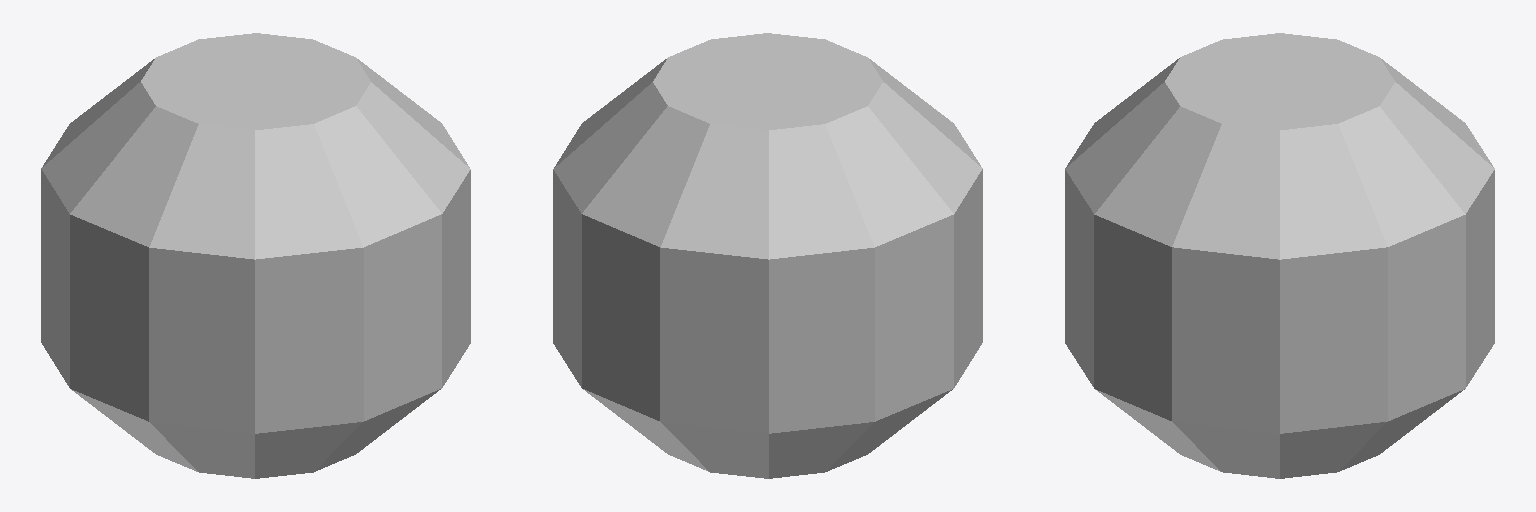
Rendered from Decimal.obj.
3 views of the same model, side by side, from view 1: azimuth 30°, elevation 25°; view 2: azimuth 150°, elevation 25°; view 3: azimuth 270°, elevation 25° (orthographic).
Visible parts, largest first — view 1: Text_Text.004; view 2: Text_Text.004; view 3: Text_Text.004.
Boxes of the visible parts, box(x1,y1,x2,y2) form: Text_Text.004: box(41, 33, 470, 478); Text_Text.004: box(553, 33, 982, 478); Text_Text.004: box(1065, 33, 1494, 478).
Size of the model in its own units: 0.1791 by 0.1602 by 0.1791.